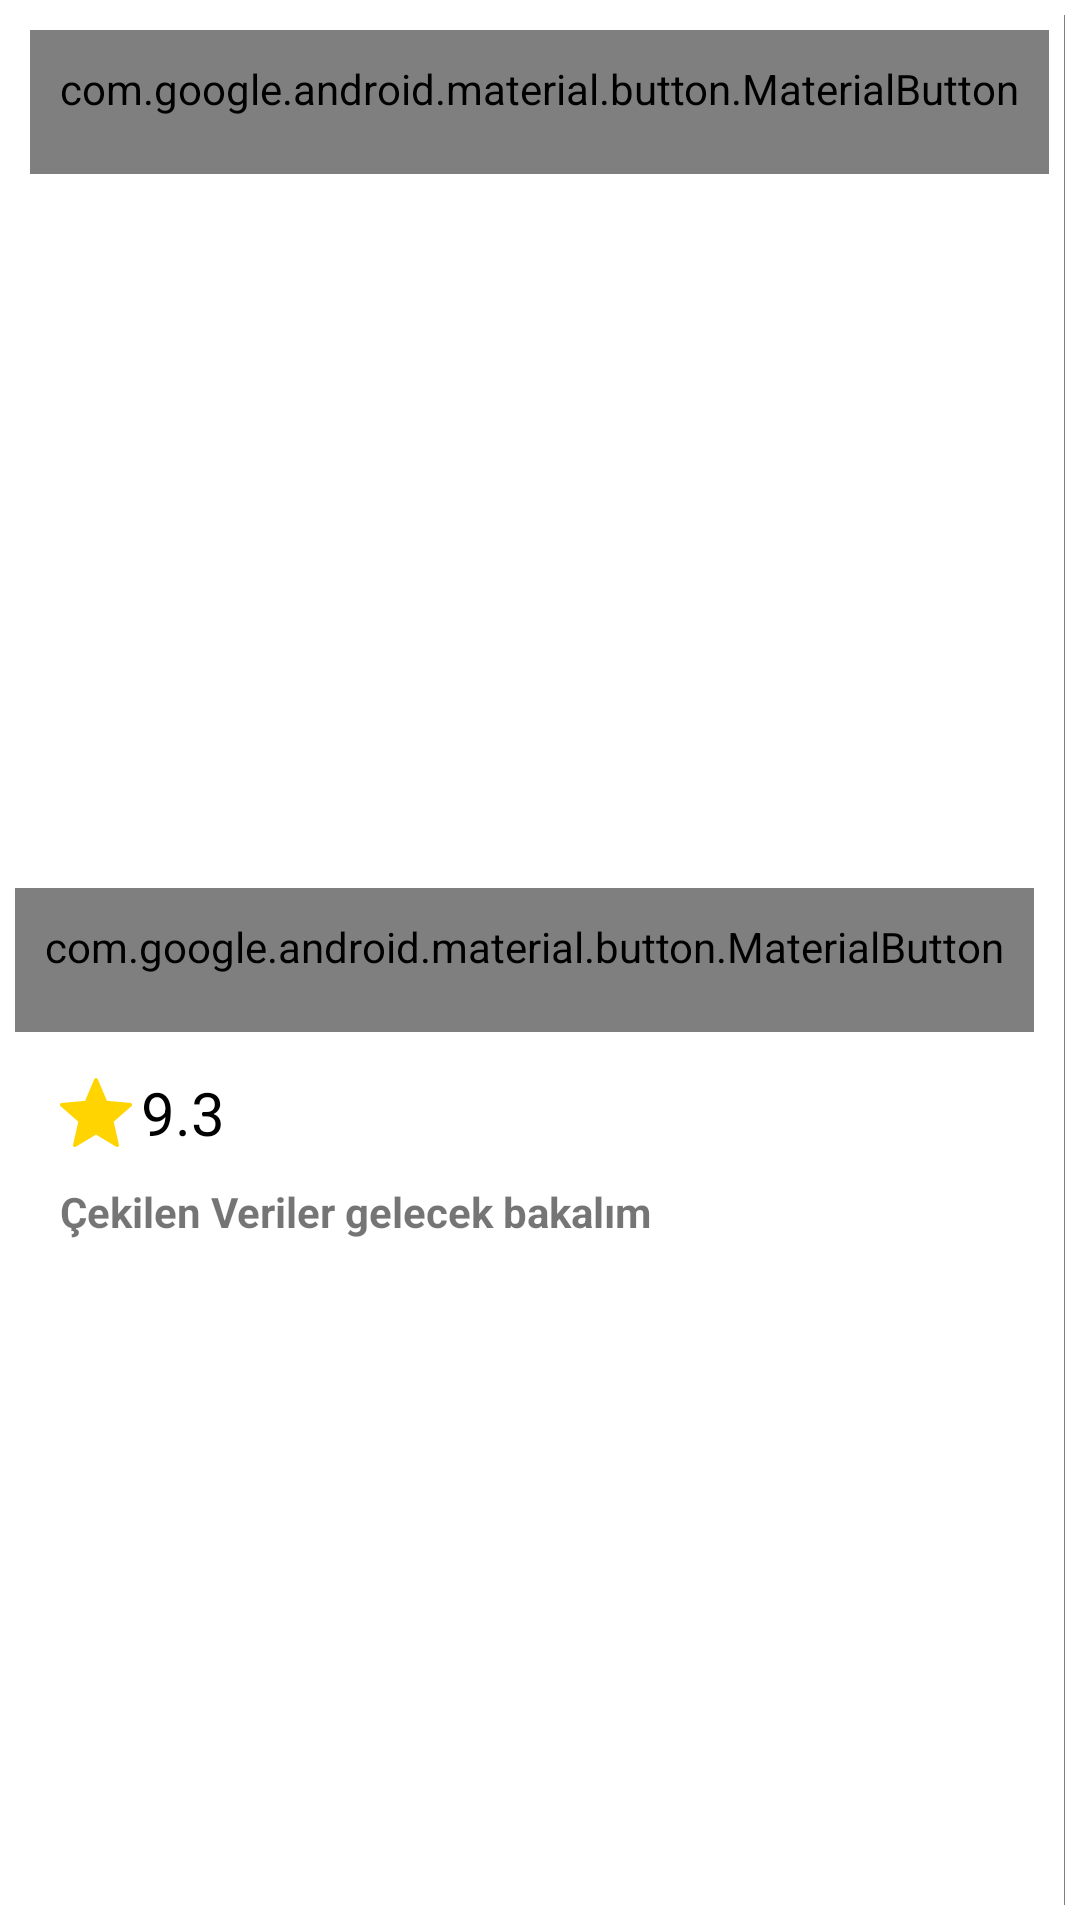

Icon bounding boxes for this 1080 x 1920 phone screenshot, format (x1,y1,x2,y2):
star: (60,1078,132,1147)
